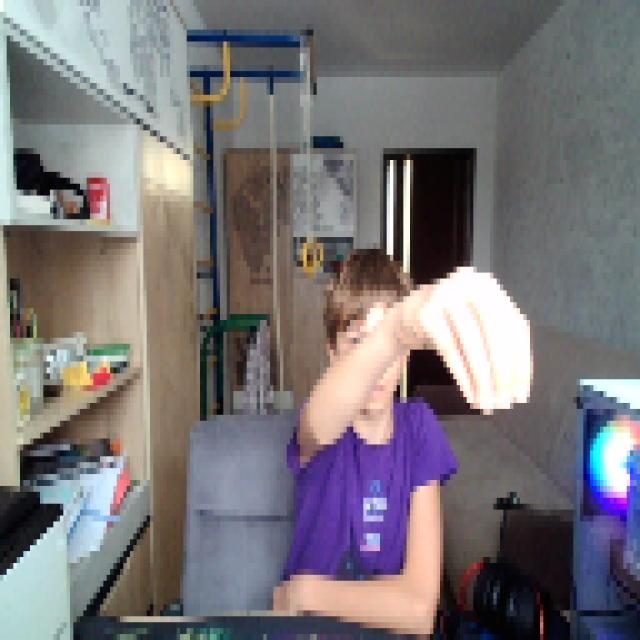left_click: (424, 255, 534, 409)
